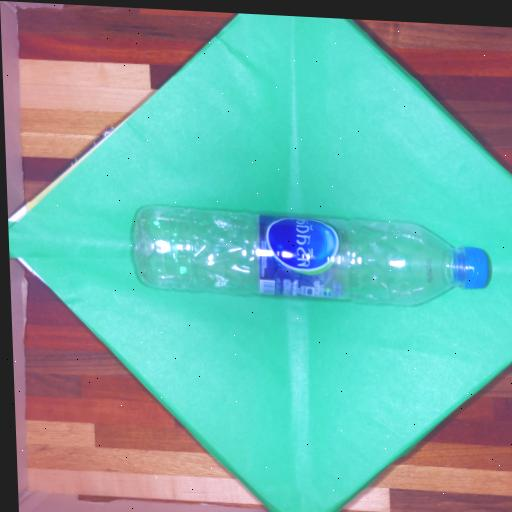bottle: (108, 178, 512, 325)
